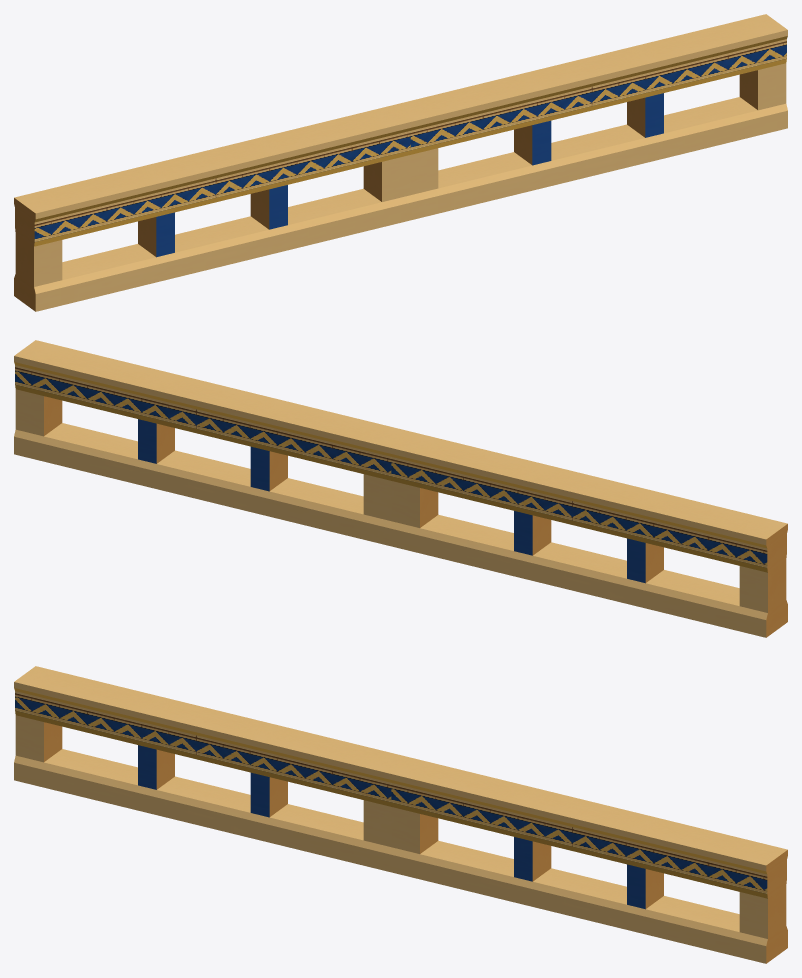
The model's file is rc_parapet_8m.glb.
3 views of the same model, one above another, from view 1: azimuth 30°, elevation 25°; view 2: azimuth 150°, elevation 25°; view 3: azimuth 330°, elevation 25° (orthographic).
Visible parts, largest first — view 1: SM_RC_Parapet_8x1; view 2: SM_RC_Parapet_8x1; view 3: SM_RC_Parapet_8x1.
Part boxes in pixels (x1,y1,x2,y2): SM_RC_Parapet_8x1: (14,14,787,311); SM_RC_Parapet_8x1: (14,340,787,637); SM_RC_Parapet_8x1: (14,666,787,963).
Bounding box in the file's own units: 8 × 1 × 0.4.
Materials: 1 (1 with a texture image).
